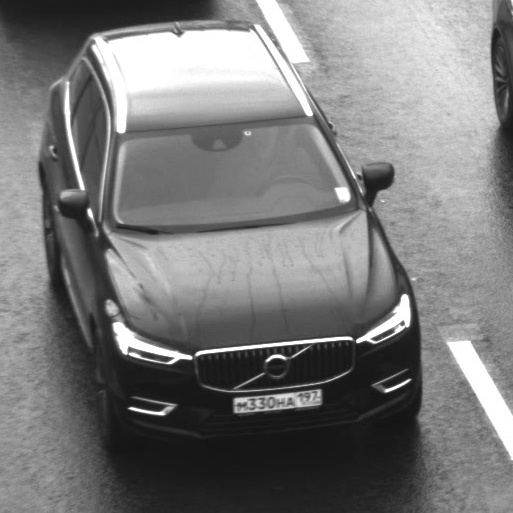plate: (222, 377, 329, 418)
